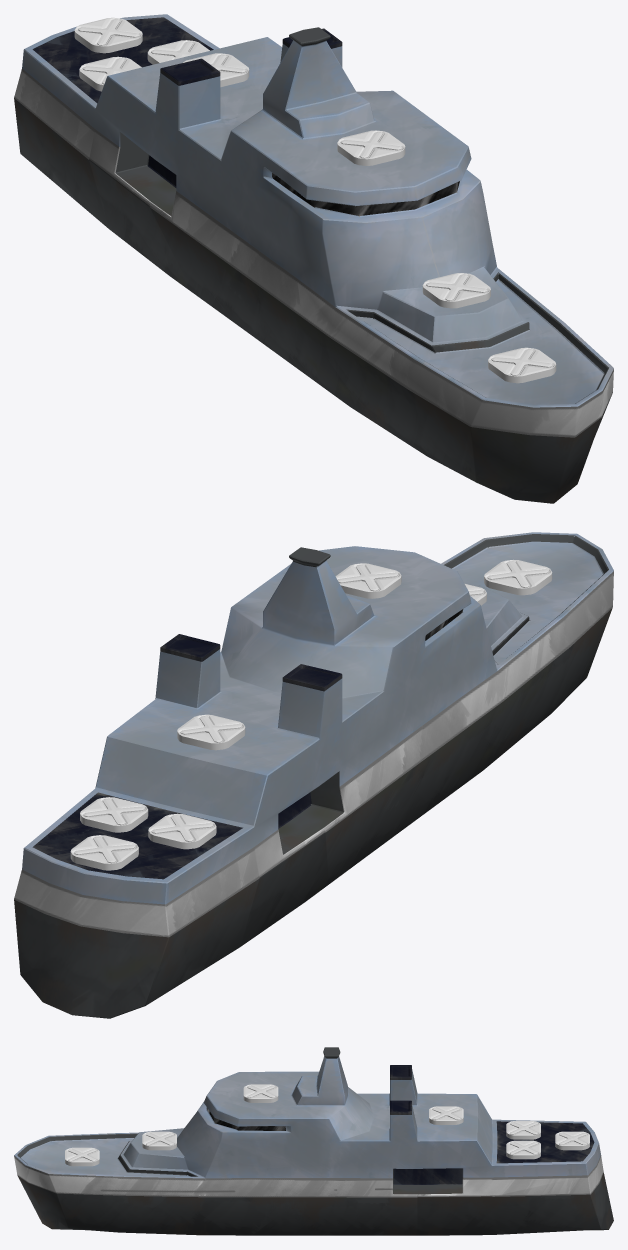
Rendered from MARINE_Player_Boat_07.fbx.
3 renders of one model, top to bottom at view 1: azimuth 30°, elevation 25°; view 2: azimuth 150°, elevation 25°; view 3: azimuth 270°, elevation 25°, orthographic. The views are drawn at different scales.
Visible parts, largest first — view 1: player_Boot.001, wapen_placement.001, wapen_placement.002, wapen_placement.004, wapen_placement, wapen_placement.009, wapen_placement.003, wapen_placement.006; view 2: player_Boot.001, wapen_placement.006, wapen_placement.003, wapen_placement.004, wapen_placement, wapen_placement.009, wapen_placement.001; view 3: player_Boot.001, wapen_placement, wapen_placement.002, wapen_placement.006, wapen_placement.004, wapen_placement.001, wapen_placement.003, wapen_placement.009.
Boxes of the visible parts, <box> form: player_Boot.001: <box>14,14,613,503</box>; wapen_placement.001: <box>337,130,405,165</box>; wapen_placement.002: <box>422,273,490,308</box>; wapen_placement.004: <box>74,17,142,53</box>; wapen_placement: <box>488,347,556,383</box>; wapen_placement.009: <box>79,56,141,91</box>; wapen_placement.003: <box>183,53,249,87</box>; wapen_placement.006: <box>147,40,209,64</box>; player_Boot.001: <box>14,532,613,1018</box>; wapen_placement.006: <box>80,797,148,832</box>; wapen_placement.003: <box>177,714,245,750</box>; wapen_placement.004: <box>70,835,138,870</box>; wapen_placement: <box>484,559,552,595</box>; wapen_placement.009: <box>148,813,216,849</box>; wapen_placement.001: <box>335,563,401,598</box>; player_Boot.001: <box>14,1047,613,1235</box>; wapen_placement: <box>65,1147,99,1166</box>; wapen_placement.002: <box>142,1131,176,1150</box>; wapen_placement.006: <box>506,1140,540,1159</box>; wapen_placement.004: <box>555,1131,589,1150</box>; wapen_placement.001: <box>243,1084,278,1102</box>; wapen_placement.003: <box>429,1106,463,1124</box>; wapen_placement.009: <box>506,1121,540,1139</box>.
Size of the model in its own units: 330 by 524 by 1642.
